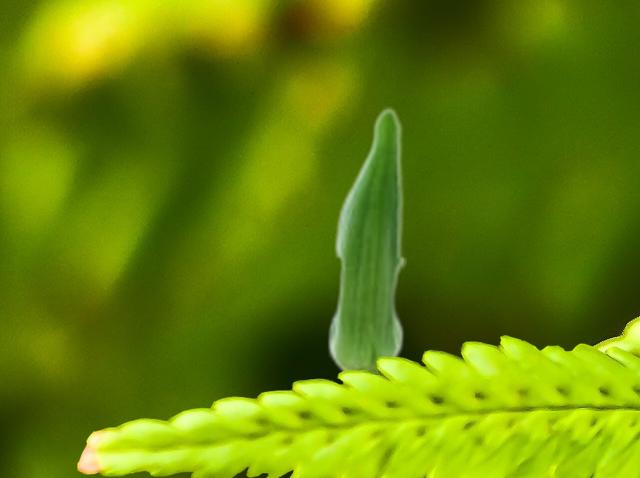okra: (326, 106, 405, 373)
